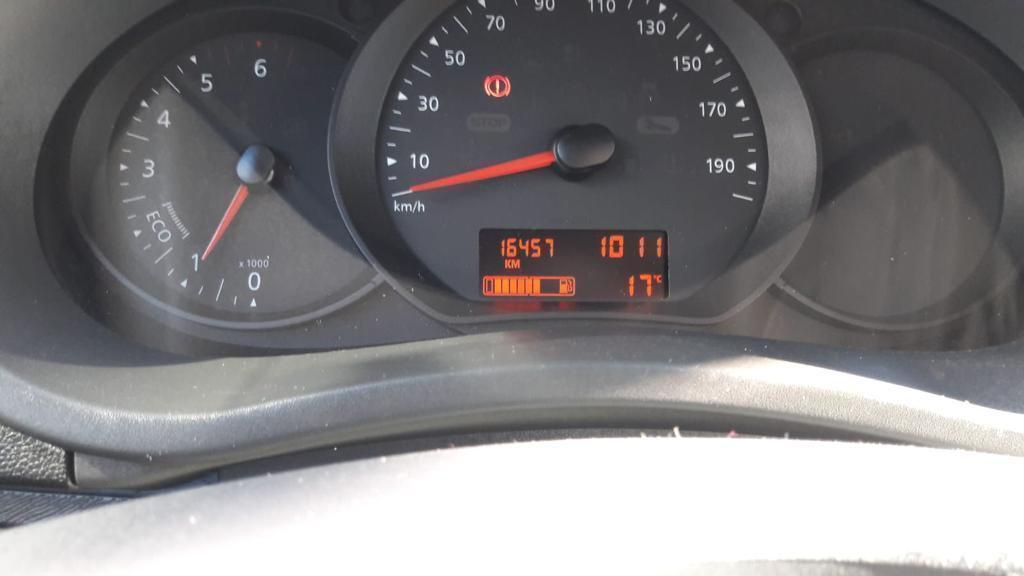0: (608, 234, 623, 258)
1: (637, 235, 644, 258), (655, 237, 662, 258), (599, 236, 606, 257), (628, 274, 634, 297), (500, 239, 504, 256)
4: (518, 238, 529, 257)
5: (529, 237, 541, 257)
6: (506, 237, 516, 257)
7: (638, 272, 652, 297), (544, 237, 554, 258)
X: (510, 258, 520, 268), (504, 258, 511, 269), (656, 274, 661, 283)
odometer: (476, 227, 671, 301)
